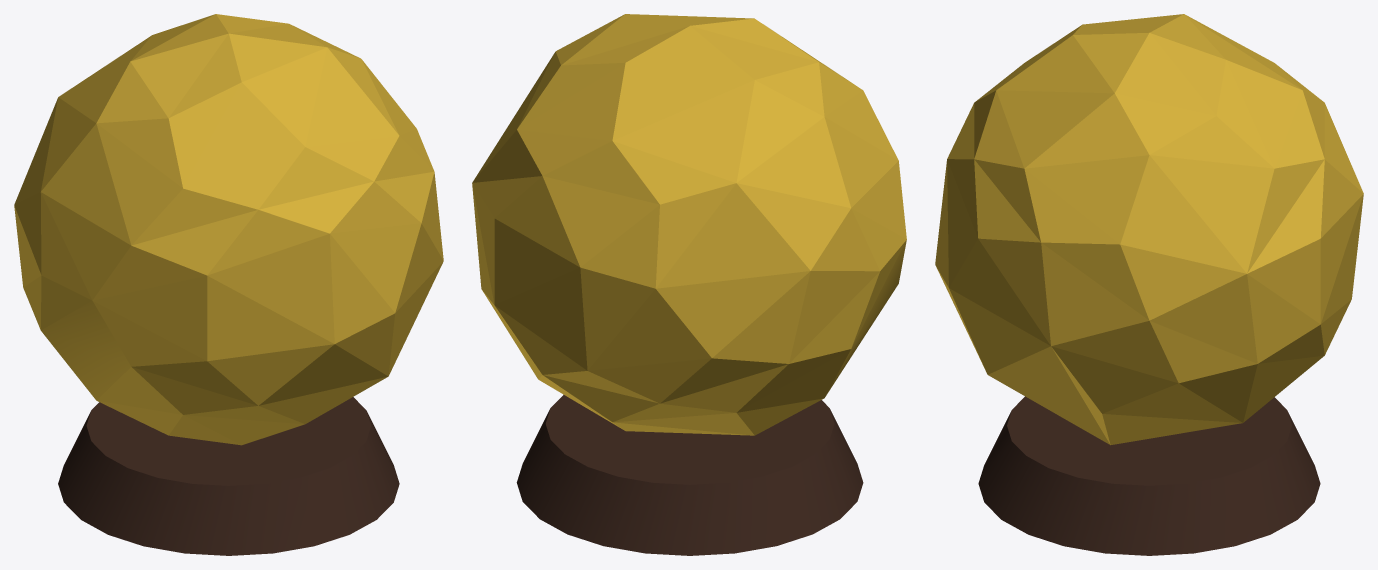
The model's file is ao_giap_sat.glb.
The picture shows the model from 3 angles, left to right: view 1: azimuth 30°, elevation 25°; view 2: azimuth 150°, elevation 25°; view 3: azimuth 270°, elevation 25°; orthographic projection.
Visible parts, largest first — view 1: Mesh_1, Mesh_0; view 2: Mesh_1, Mesh_0; view 3: Mesh_1, Mesh_0.
Part boxes in pixels (x1,y1,x2,y2): Mesh_1: [14, 14, 443, 445]; Mesh_0: [58, 397, 399, 555]; Mesh_1: [472, 14, 906, 435]; Mesh_0: [516, 394, 863, 555]; Mesh_1: [935, 14, 1363, 445]; Mesh_0: [978, 396, 1320, 555].
Size of the model in its own units: 1.22 by 1.4 by 1.2.
